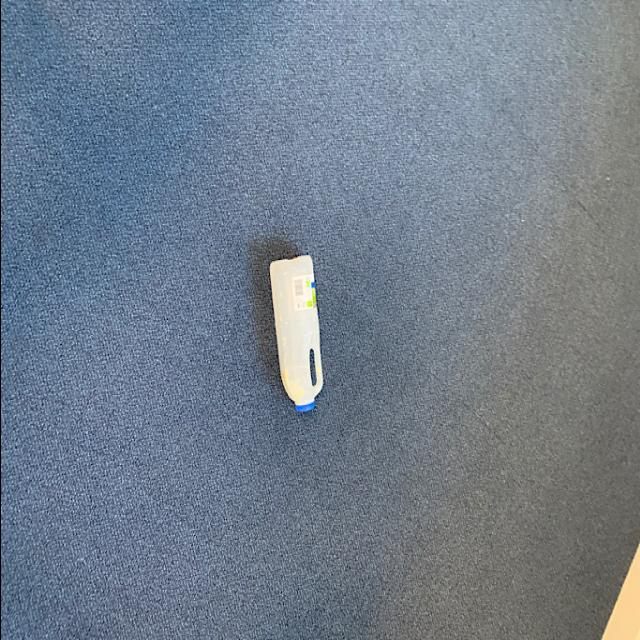HDPEM: (266, 252, 324, 413)
